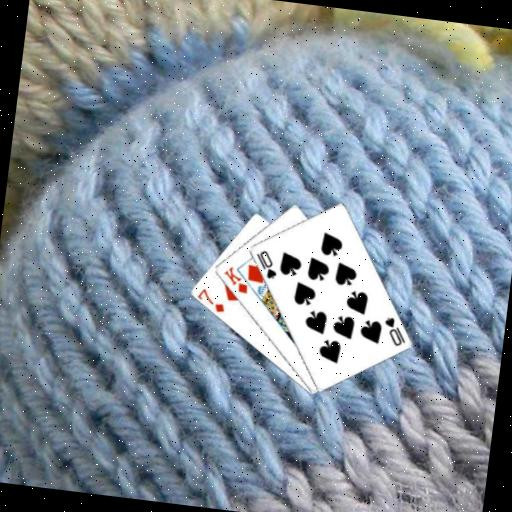10S: (379, 313, 410, 349), (251, 246, 281, 281)
7D: (193, 285, 228, 315)
KD: (218, 263, 252, 296)
